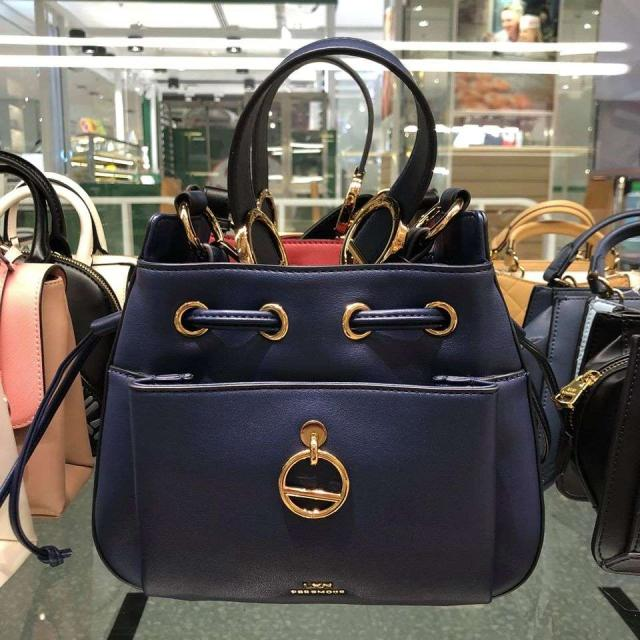Handbag: (88, 167, 555, 614)
